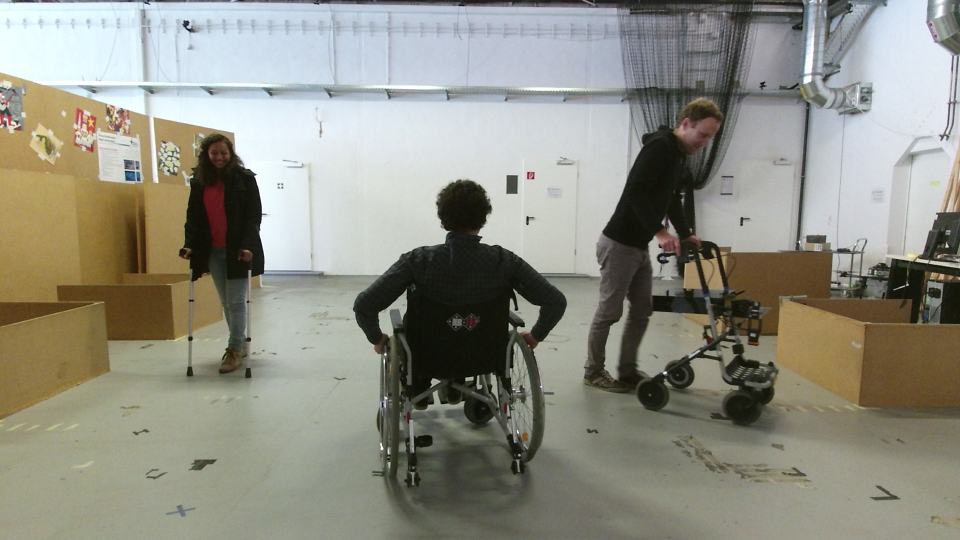crutches: (173, 128, 271, 381)
wheelchair: (350, 177, 570, 498)
